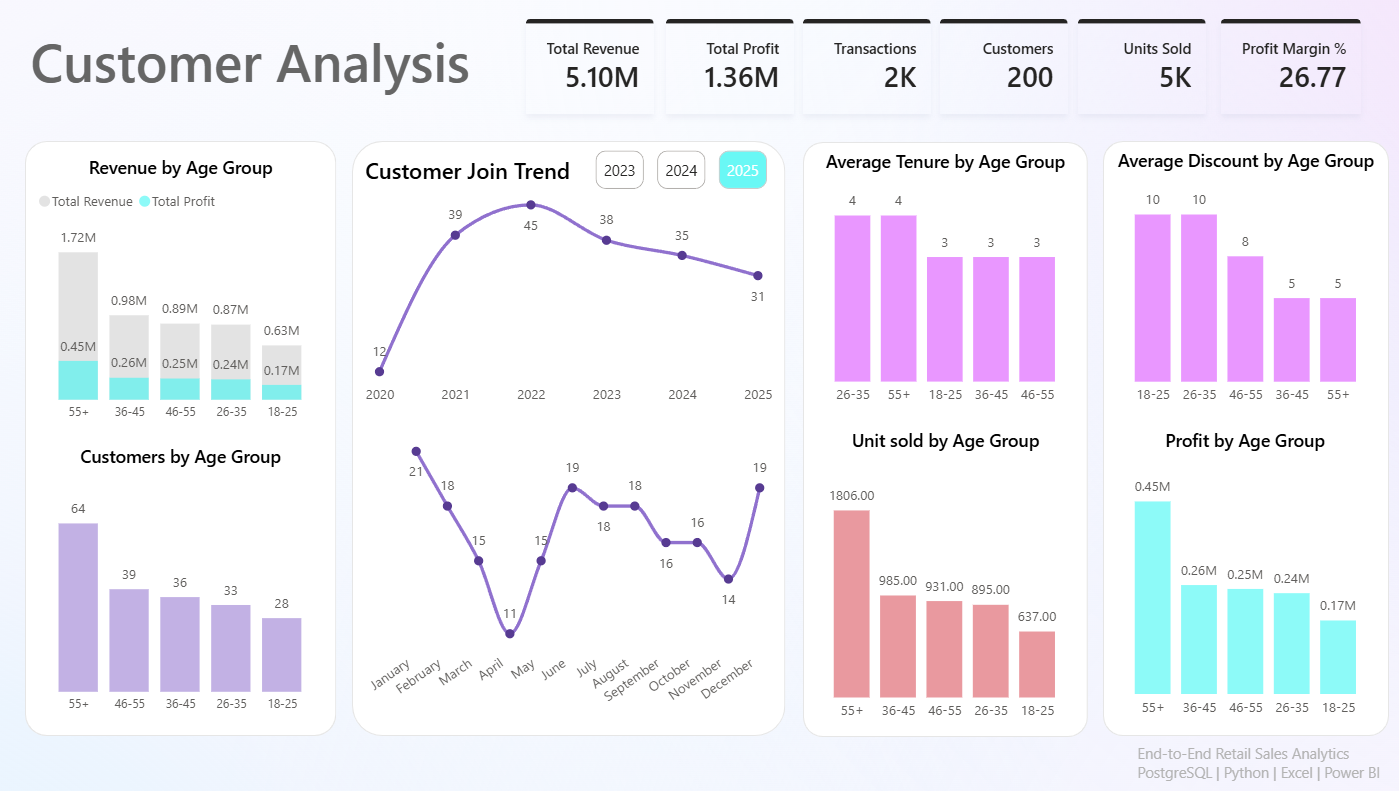

The dashboard page shown, as its layout file describes it:
{"tool":"powerbi","page":{"name":"Customer Analysis","canvas":[1280,720],"ordinal":3},"visuals":[{"type":"cardVisual","fields":{"Data":["_Measures.Total Revenue"]},"box":[25.6,110,142.2,85.6],"z":0},{"type":"cardVisual","fields":{"Data":["_Measures.Total Profit"]},"box":[201.1,110,142.2,85.6],"z":1000},{"type":"cardVisual","fields":{"Data":["_Measures.Transactions"]},"box":[25.6,211.1,142.2,85.6],"z":2000},{"type":"cardVisual","fields":{"Data":["_Measures.Customers"]},"box":[201.1,211.1,142.2,85.6],"z":3000},{"type":"cardVisual","fields":{"Data":["_Measures.Profit Margin %"]},"box":[25.6,308.9,142.2,85.6],"z":4000},{"type":"barChart","title":"Revenue by Age Group","fields":{"Y":["_Measures.Total Revenue"],"Category":["retail_business_table.Age Group"]},"box":[365.6,113.3,313.3,281.1],"z":5000},{"type":"barChart","title":"Customers by Age Group","fields":{"Category":["retail_business_table.Age Group"],"Y":["_Measures.Customers"]},"box":[691.1,113.3,293.3,281.1],"z":6000},{"type":"columnChart","title":"Revenue by Gender","fields":{"Category":["retail_business_table.gender"],"Y":["_Measures.Total Revenue"]},"box":[365.6,408.9,222.2,257.8],"z":7000},{"type":"advancedSlicerVisual","fields":{"Values":["retail_business_table.region"]},"box":[1146.7,110,92.2,284.4],"z":8000},{"type":"advancedSlicerVisual","fields":{"Values":["retail_business_table.category"]},"box":[893.3,13.3,354.4,84.4],"z":9000},{"type":"advancedSlicerVisual","fields":{"Values":["retail_business_table.gender"]},"box":[681.1,13.3,212.2,84.4],"z":10000},{"type":"multiRowCard","fields":{"Values":["retail_business_table.category","_Measures.Units Sold"]},"box":[1002.2,113.3,137.8,281.1],"z":11000},{"type":"textbox","box":[22.2,17.8,420,80],"z":12000},{"type":"shape","box":[25.6,408.9,317.8,257.8],"z":13000},{"type":"cardVisual","fields":{"Data":["_Measures.Units Sold"]},"box":[201.1,308.9,142.2,85.6],"z":14000},{"type":"textbox","box":[40,447.8,288.9,180],"z":15000},{"type":"columnChart","title":"Profit by Gender","fields":{"Y":["_Measures.Total Profit"],"Category":["retail_business_table.gender"]},"box":[600,408.9,216.7,257.8],"z":16000},{"type":"stackedAreaChart","title":"Customer Join Trend","fields":{"Y":["_Measures.Customers"],"Category":["retail_business_table.joindate.Variation.Date Hierarchy.Year"]},"box":[830,408.9,408.9,257.8],"z":17000},{"type":"advancedSlicerVisual","fields":{"Values":["DateTable.Year"]},"box":[500,14.4,176.7,86.7],"z":18000},{"type":"textbox","box":[1006.7,672.2,232.2,47.8],"z":19000}]}

Visuals, with their boxes in screenshot pixels (x1, y1, x2, y2), scaled from the page's 1280x720 canvas onto the 1399x791 screenshot:
cardVisual - _Measures.Total Revenue: [x1=28, y1=121, x2=183, y2=215]
cardVisual - _Measures.Total Profit: [x1=220, y1=121, x2=375, y2=215]
cardVisual - _Measures.Transactions: [x1=28, y1=232, x2=183, y2=326]
cardVisual - _Measures.Customers: [x1=220, y1=232, x2=375, y2=326]
cardVisual - _Measures.Profit Margin %: [x1=28, y1=339, x2=183, y2=433]
"Revenue by Age Group" barChart: [x1=400, y1=124, x2=742, y2=433]
"Customers by Age Group" barChart: [x1=755, y1=124, x2=1076, y2=433]
"Revenue by Gender" columnChart: [x1=400, y1=449, x2=642, y2=732]
advancedSlicerVisual - retail_business_table.region: [x1=1253, y1=121, x2=1354, y2=433]
advancedSlicerVisual - retail_business_table.category: [x1=976, y1=15, x2=1364, y2=107]
advancedSlicerVisual - retail_business_table.gender: [x1=744, y1=15, x2=976, y2=107]
multiRowCard - retail_business_table.category x _Measures.Units Sold: [x1=1095, y1=124, x2=1246, y2=433]
textbox: [x1=24, y1=20, x2=483, y2=107]
shape: [x1=28, y1=449, x2=375, y2=732]
cardVisual - _Measures.Units Sold: [x1=220, y1=339, x2=375, y2=433]
textbox: [x1=44, y1=492, x2=359, y2=690]
"Profit by Gender" columnChart: [x1=656, y1=449, x2=893, y2=732]
"Customer Join Trend" stackedAreaChart: [x1=907, y1=449, x2=1354, y2=732]
advancedSlicerVisual - DateTable.Year: [x1=546, y1=16, x2=740, y2=111]
textbox: [x1=1100, y1=738, x2=1354, y2=790]
